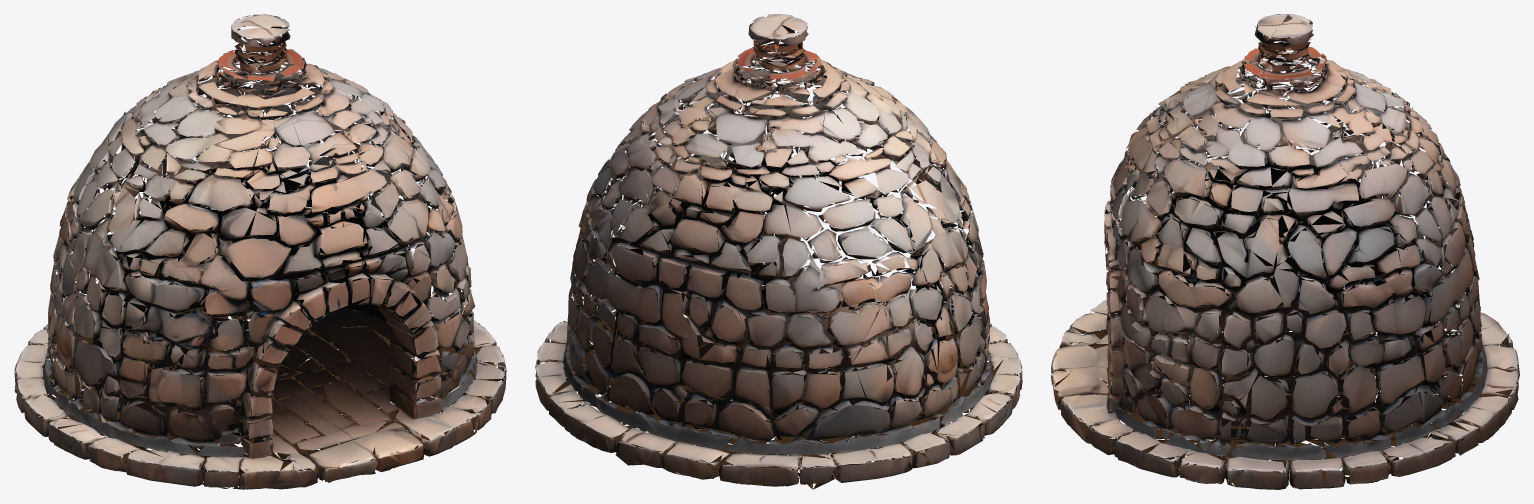
File: kiln.glb
The picture shows the model from 3 angles, left to right: view 1: azimuth 30°, elevation 25°; view 2: azimuth 150°, elevation 25°; view 3: azimuth 270°, elevation 25°; orthographic projection.
Visible parts, largest first — view 1: model; view 2: model; view 3: model.
Boxes of the visible parts, bbox=[...] form: model: bbox=[14, 14, 506, 489]; model: bbox=[535, 14, 1022, 489]; model: bbox=[1051, 14, 1519, 489].
Size of the model in its own units: 3.61 by 3 by 3.45.
1 material, 1 textured.
